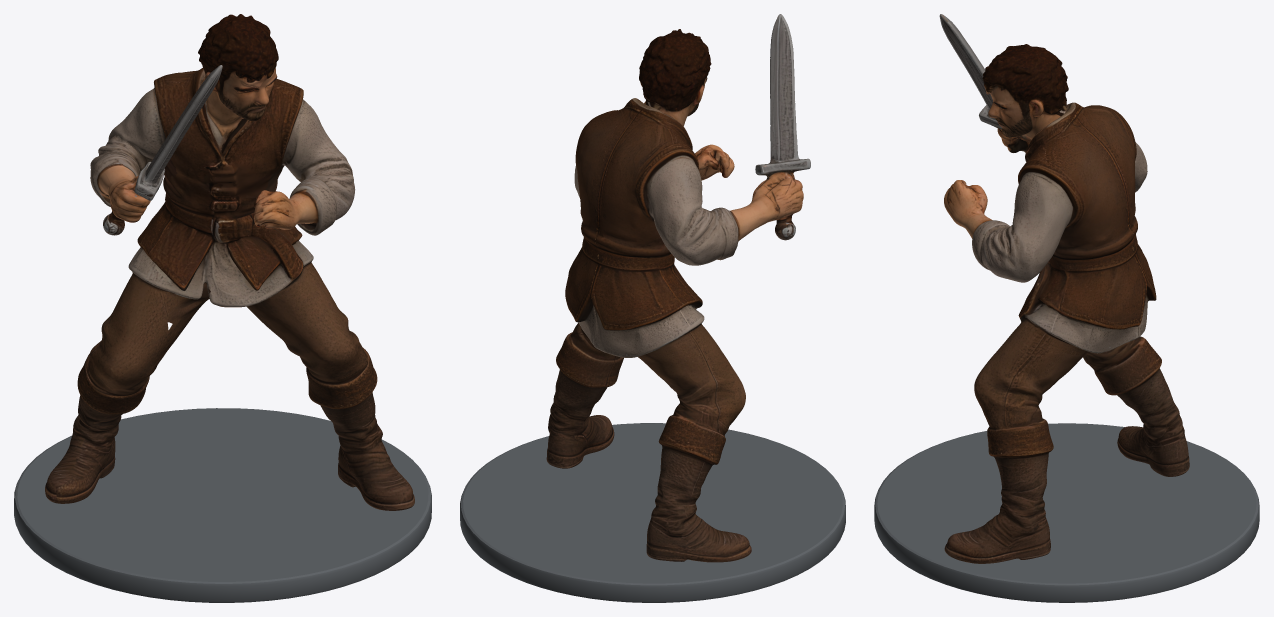
The model's file is generated-high-bandit-283e7c3ef456.glb.
3 renders of one model, left to right at view 1: azimuth 30°, elevation 25°; view 2: azimuth 150°, elevation 25°; view 3: azimuth 270°, elevation 25°, orthographic. The views are drawn at different scales.
Visible parts, largest first — view 1: comparison-bandit-hybrid_body, comparison-bandit-hybrid_round_base; view 2: comparison-bandit-hybrid_body, comparison-bandit-hybrid_round_base; view 3: comparison-bandit-hybrid_body, comparison-bandit-hybrid_round_base.
Part boxes in pixels (<box>): comparison-bandit-hybrid_body: <box>45,14,414,510</box>; comparison-bandit-hybrid_round_base: <box>14,408,431,602</box>; comparison-bandit-hybrid_body: <box>546,14,810,562</box>; comparison-bandit-hybrid_round_base: <box>460,423,845,602</box>; comparison-bandit-hybrid_body: <box>939,14,1189,563</box>; comparison-bandit-hybrid_round_base: <box>874,423,1259,602</box>.
Bounding box in the file's own units: 1 × 1.37 × 1.
Materials: 2 (1 with a texture image).
